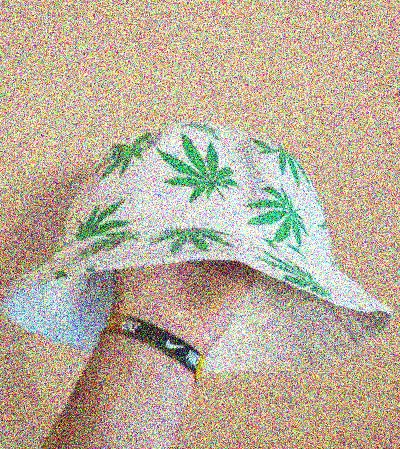Hat: (6, 103, 397, 374)
